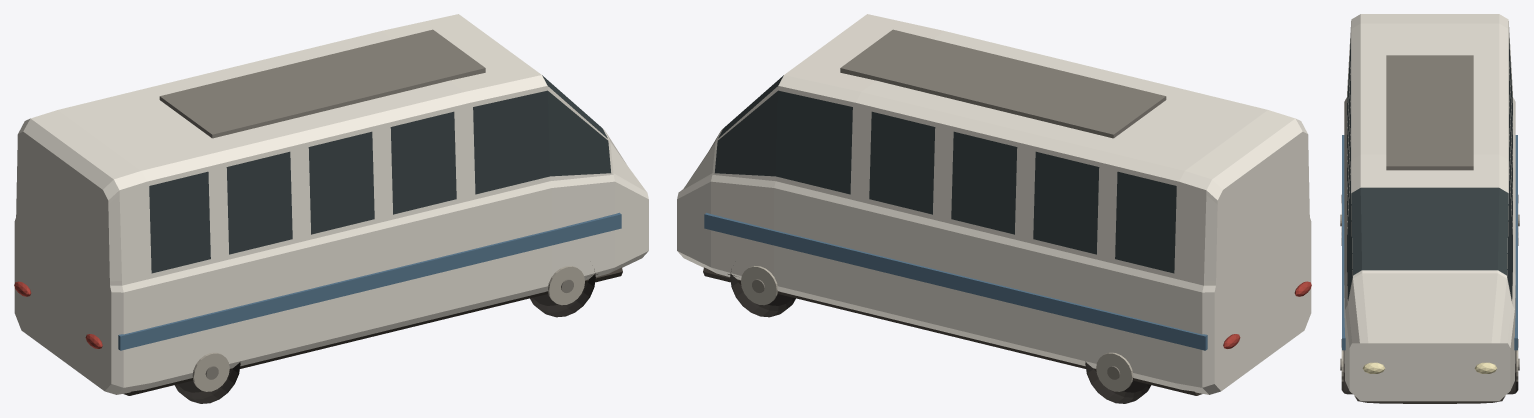
The model's file is dolmus-beyaz.glb.
3 renders of one model, left to right at view 1: azimuth 30°, elevation 25°; view 2: azimuth 150°, elevation 25°; view 3: azimuth 270°, elevation 25°, orthographic. The views are drawn at different scales.
Visible parts, largest first — view 1: a_beyaz, cam, tampon, a_deniz, jant, lastik, ic; view 2: a_beyaz, cam, tampon, a_deniz, jant, lastik, ic; view 3: a_beyaz, cam, tampon, a_deniz, far, ic, lastik, jant.
Part boxes in pixels (bbox=[...]): a_beyaz: bbox=[14, 14, 648, 394]; cam: bbox=[149, 75, 610, 273]; tampon: bbox=[159, 29, 573, 379]; a_deniz: bbox=[118, 212, 621, 350]; jant: bbox=[192, 266, 584, 391]; lastik: bbox=[174, 269, 595, 403]; ic: bbox=[123, 183, 622, 395]; a_beyaz: bbox=[677, 14, 1311, 394]; cam: bbox=[715, 75, 1176, 273]; tampon: bbox=[752, 29, 1166, 379]; a_deniz: bbox=[704, 212, 1207, 350]; jant: bbox=[741, 266, 1133, 391]; lastik: bbox=[730, 269, 1151, 403]; ic: bbox=[703, 183, 1202, 395]; a_beyaz: bbox=[1344, 14, 1515, 401]; cam: bbox=[1347, 38, 1512, 300]; tampon: bbox=[1340, 55, 1519, 370]; a_deniz: bbox=[1342, 135, 1517, 350]; far: bbox=[1362, 362, 1497, 373]; ic: bbox=[1354, 396, 1505, 403]; lastik: bbox=[1341, 195, 1518, 394]; jant: bbox=[1341, 203, 1518, 381].
Size of the model in its own units: 6.1 by 2.56 by 2.05.
